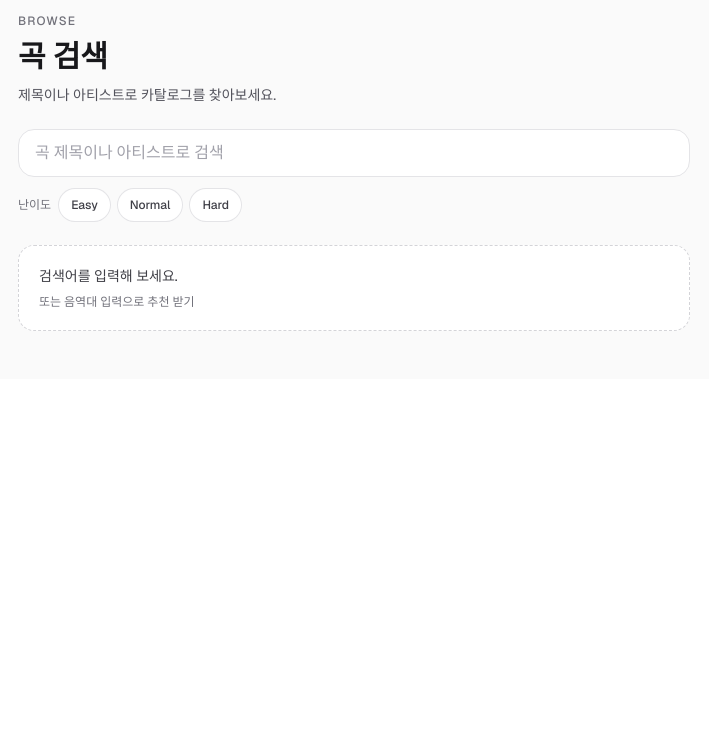
Scenario: SongSearchPage › 장르 필터 단일 선택은 해당 장르 곡만 남긴다 (#118)
The width and height of the screenshot is (709, 739).
Type "song" into the search field with placeholder "곡 제목이나 아티스트로 검색" at (354, 153), box [18, 129, 690, 177]
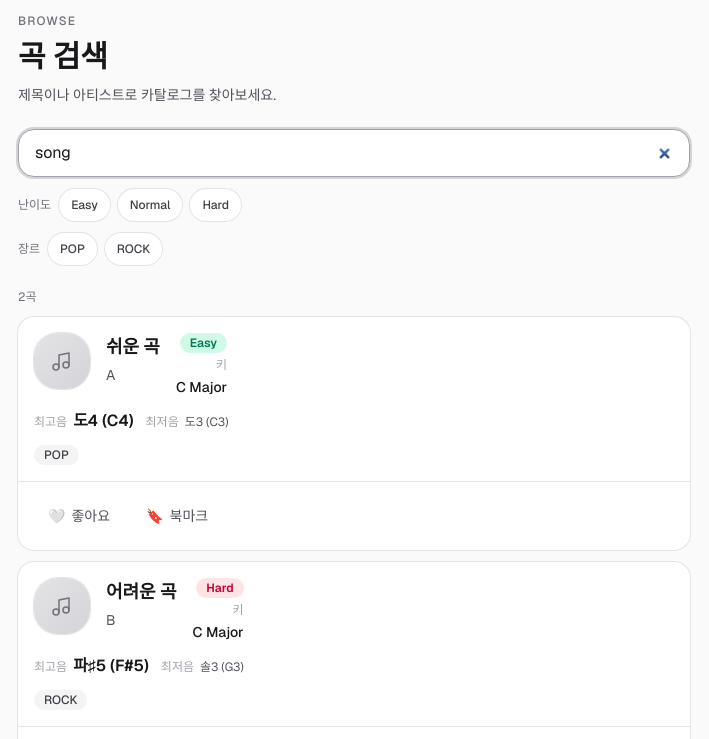
expect the heading "쉬운 곡" is shown: met, box [106, 333, 160, 361]
장르 chip은 응답의 unique genre들로 동적 생성됨 (POP, ROCK).
Click the button "POP" at (72, 249), box [48, 233, 97, 265]
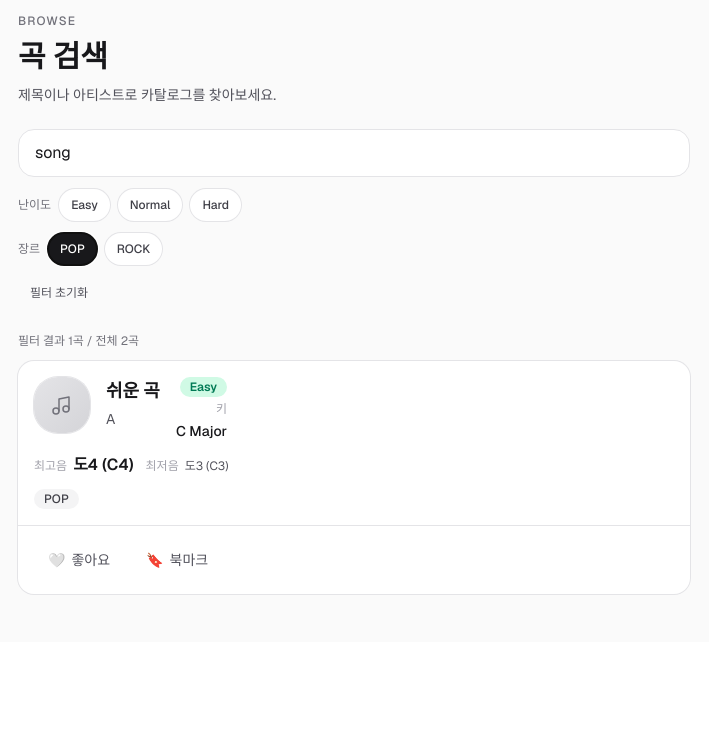
expect the heading "쉬운 곡" is shown: met, box [106, 377, 160, 405]
expect the button "어려운 곡" is gone: met
expect the text "필터 결과 1곡 / 전체 2곡" is shown: met, box [18, 333, 139, 349]
